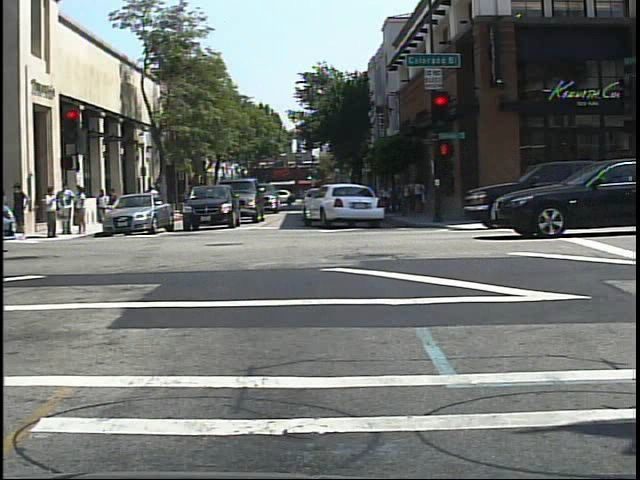person: (145, 180, 162, 215), (96, 187, 110, 228), (142, 180, 157, 213)
